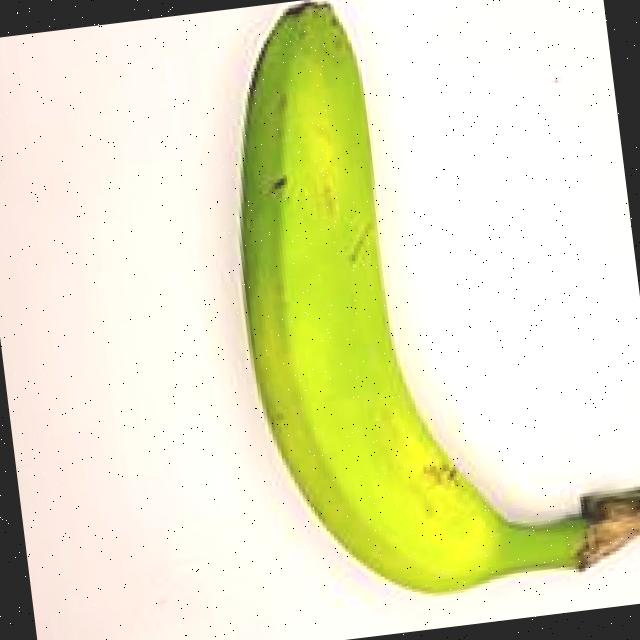Unripe: (162, 0, 640, 616)
